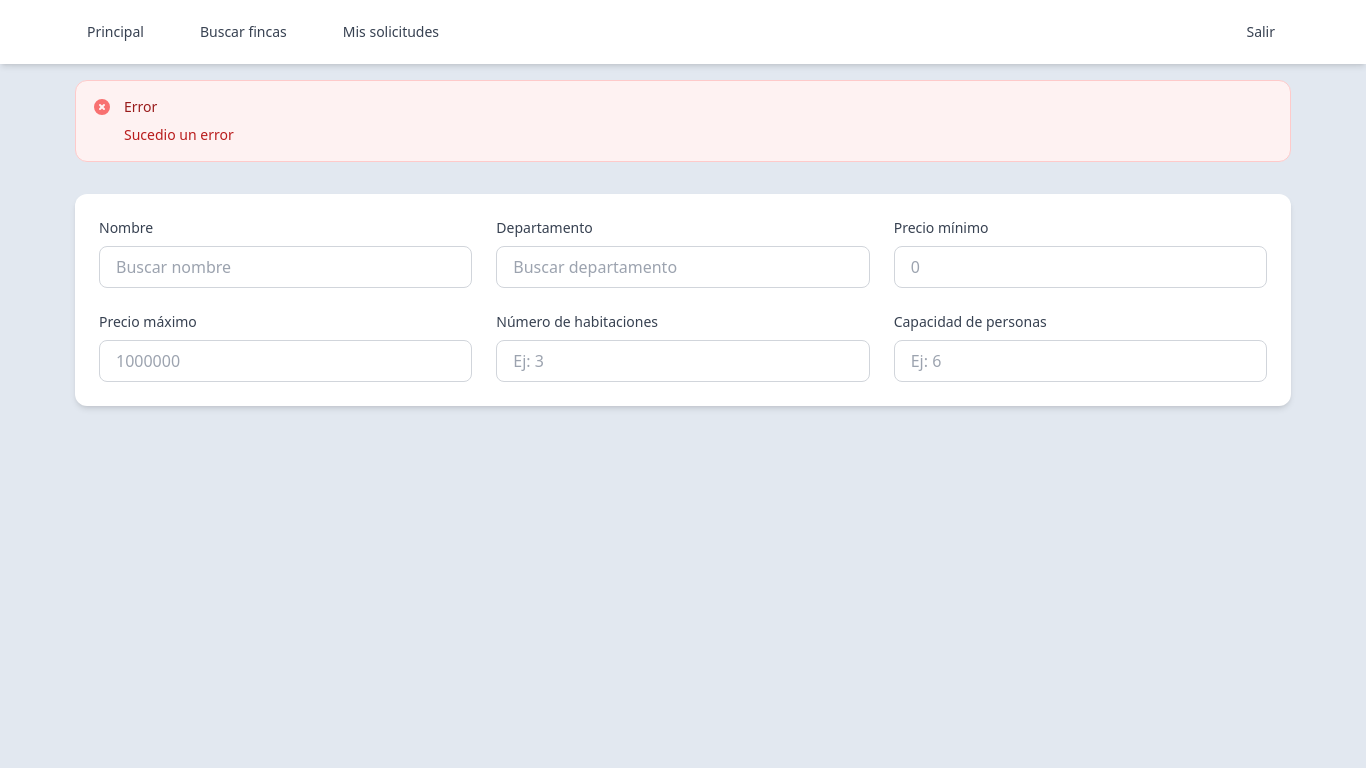
Scenario: Search Properties Page › Search and Filters › should filter properties by name
The width and height of the screenshot is (1366, 768).
Type "Beach" into the field with id "name".
click(286, 267); type("Beach")  # box [99,246,472,288]
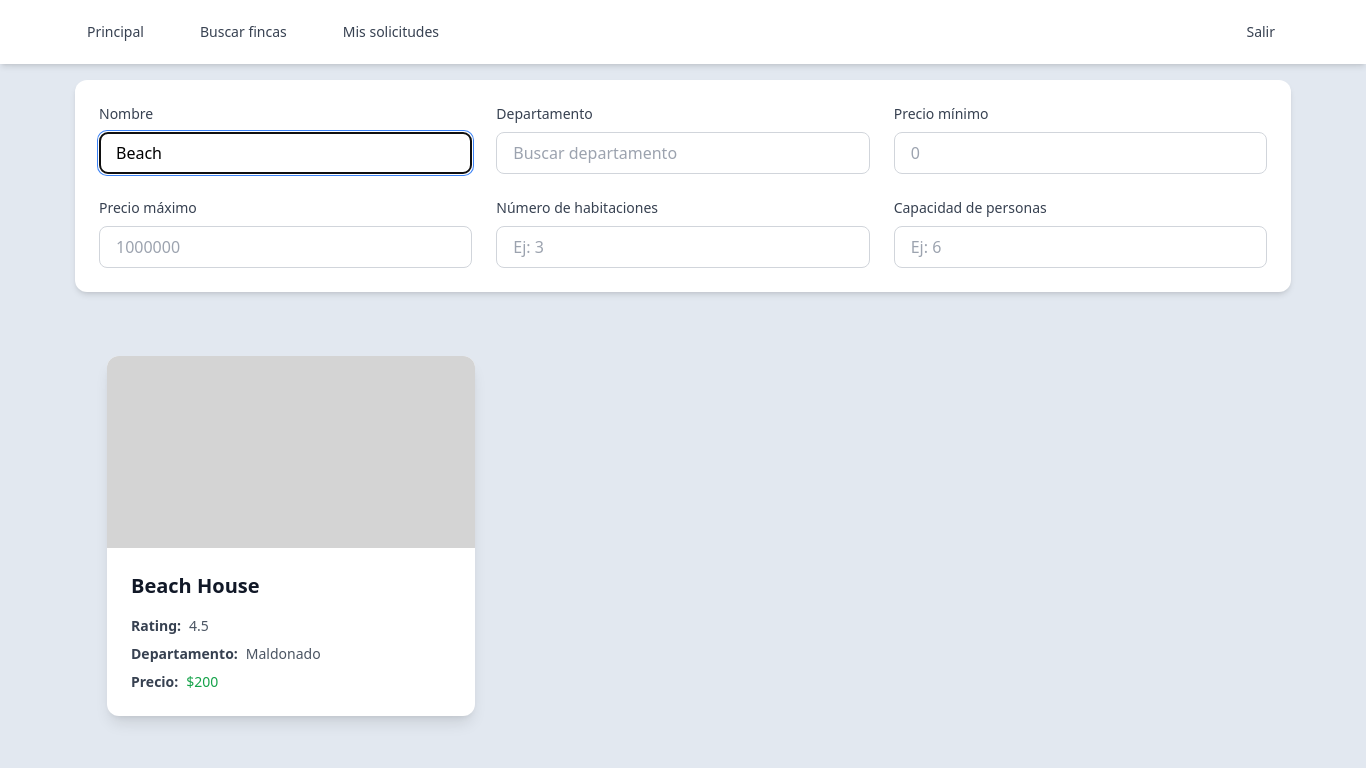
expect the heading "Beach House" is shown: met, box [131,572,260,599]
